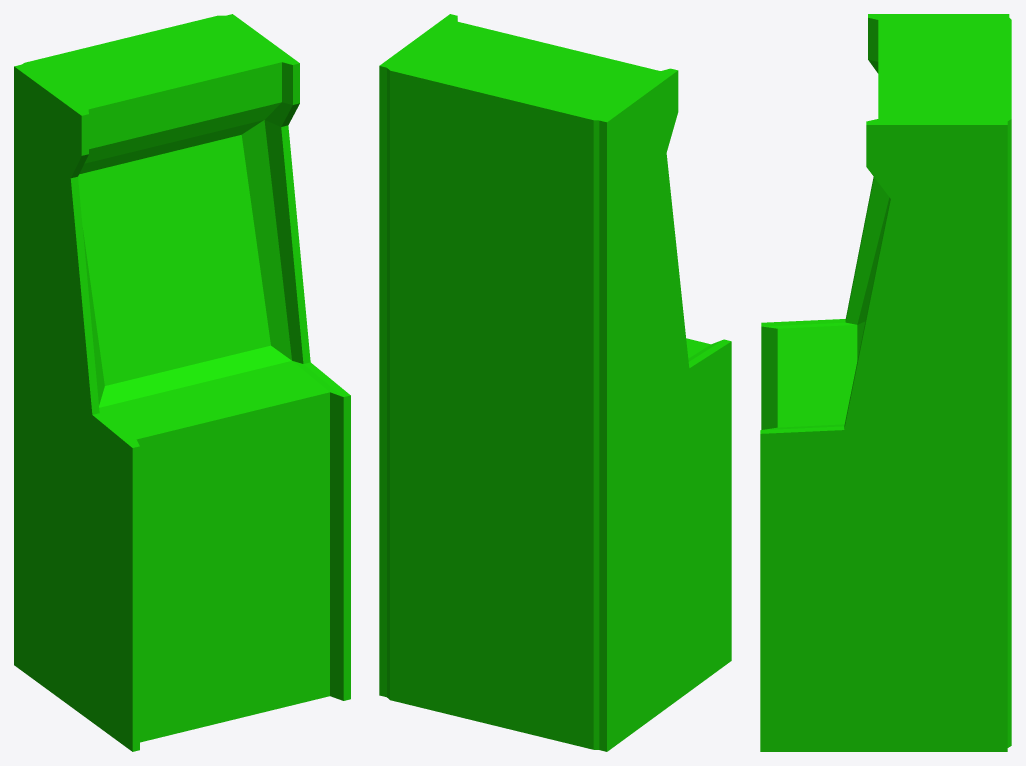
The model's file is arcade-cabinet.fbx.
3 views of the same model, side by side, from view 1: azimuth 30°, elevation 25°; view 2: azimuth 150°, elevation 25°; view 3: azimuth 270°, elevation 25° (orthographic). The views are drawn at different scales.
Parts seen in each view (by area): view 1: Cube; view 2: Cube; view 3: Cube.
Part boxes in pixels (box(x1,y1,x2,y2)): Cube: box(14, 14, 350, 751); Cube: box(379, 14, 731, 751); Cube: box(760, 14, 1011, 751).
Bounding box in the file's own units: 225 × 591 × 215.
